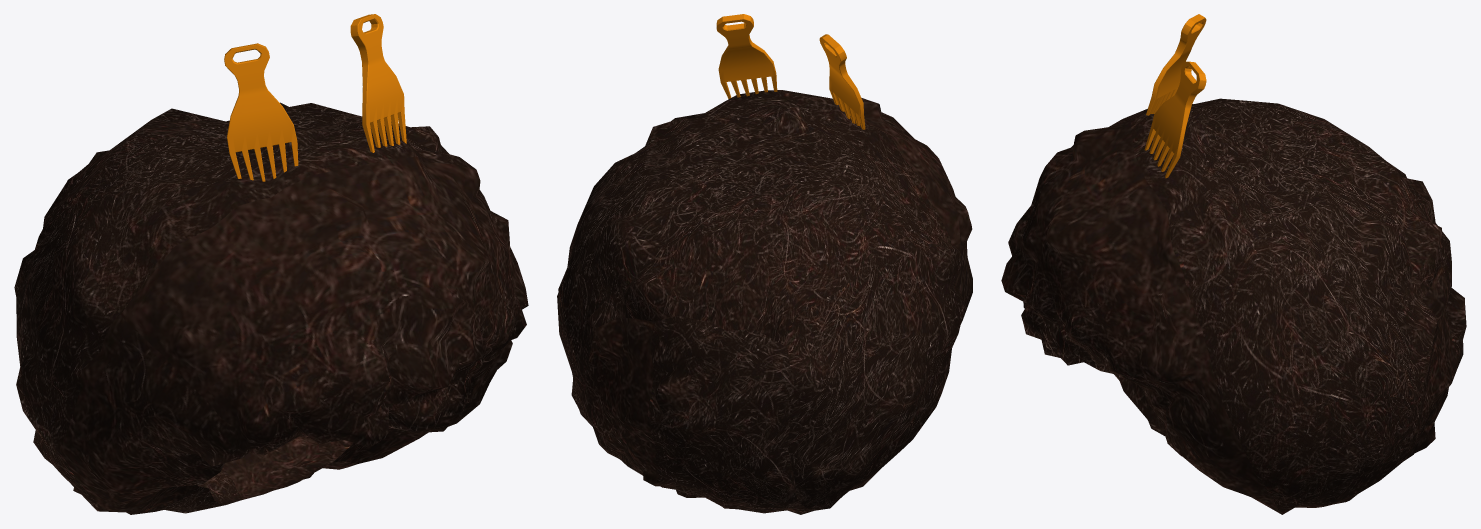
File: AfroWithCombs.fbx
3 renders of one model, left to right at view 1: azimuth 30°, elevation 25°; view 2: azimuth 150°, elevation 25°; view 3: azimuth 270°, elevation 25°, orthographic. The views are drawn at different scales.
Parts seen in each view (by area): view 1: Afro, Comb_Right, Comb_Left; view 2: Afro, Comb_Left, Comb_Right; view 3: Afro, Comb_Left, Comb_Right.
Boxes of the visible parts, bbox=[...] form: Afro: bbox=[14, 102, 528, 514]; Comb_Right: bbox=[224, 43, 298, 181]; Comb_Left: bbox=[350, 14, 406, 152]; Afro: bbox=[557, 90, 972, 514]; Comb_Left: bbox=[716, 14, 777, 98]; Comb_Right: bbox=[819, 34, 865, 129]; Afro: bbox=[1001, 98, 1466, 514]; Comb_Left: bbox=[1144, 61, 1206, 178]; Comb_Right: bbox=[1146, 14, 1206, 115].
Bounding box in the file's own units: 30.29 × 33.36 × 31.69.
Materials: 2 (1 with a texture image).
